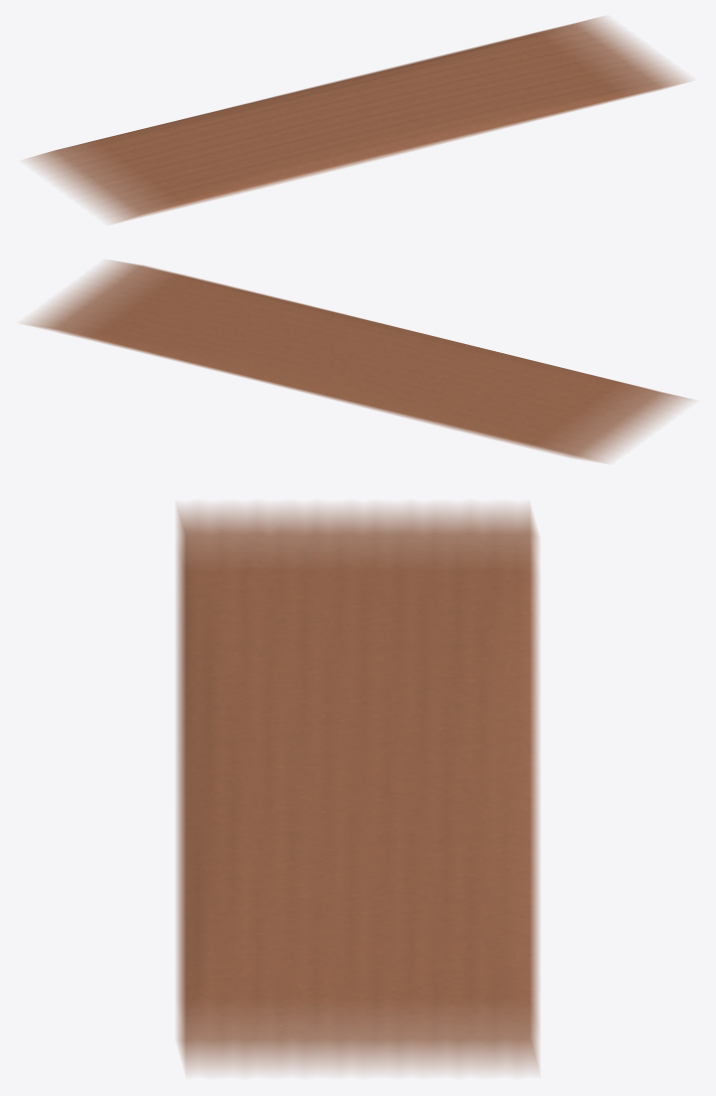
The model's file is sand_drift.glb.
3 views of the same model, one above another, from view 1: azimuth 30°, elevation 25°; view 2: azimuth 150°, elevation 25°; view 3: azimuth 270°, elevation 25° (orthographic). The views are drawn at different scales.
Visible parts, largest first — view 1: sand_drift; view 2: sand_drift; view 3: sand_drift.
Part boxes in pixels (x1,y1,x2,y2): sand_drift: (25, 16, 690, 223); sand_drift: (22, 260, 692, 462); sand_drift: (176, 504, 539, 1073).
Bounding box in the file's own units: 15 × 0.1495 × 4.
Materials: 1 (1 with a texture image).
